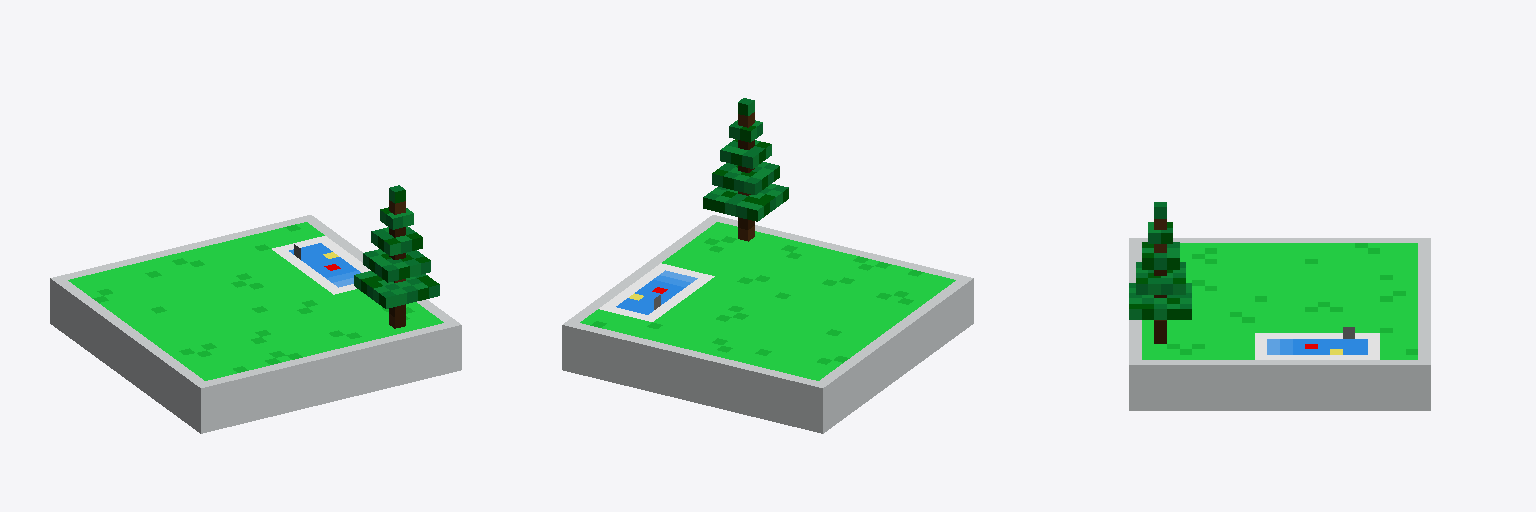
3 renders of one model, left to right at view 1: azimuth 30°, elevation 25°; view 2: azimuth 150°, elevation 25°; view 3: azimuth 270°, elevation 25°, orthographic.
Parts seen in each view (by area): view 1: cube; view 2: cube; view 3: cube.
Part boxes in pixels (left/top/right/bottom): cube: left=50, top=185, right=461, bottom=433; cube: left=562, top=98, right=973, bottom=433; cube: left=1129, top=202, right=1430, bottom=410.
Size of the model in its own units: 0.7059 by 0.4706 by 0.7059.
1 materials, 1 textured.